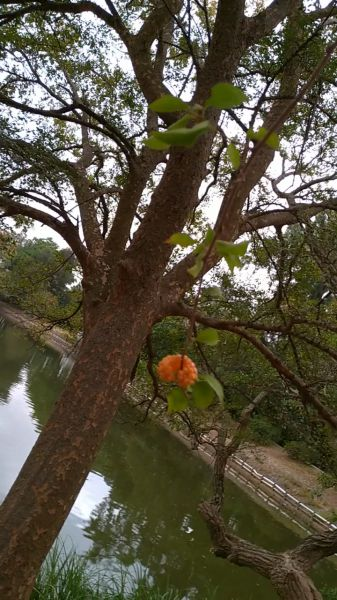eggs: (154, 345, 205, 394)
